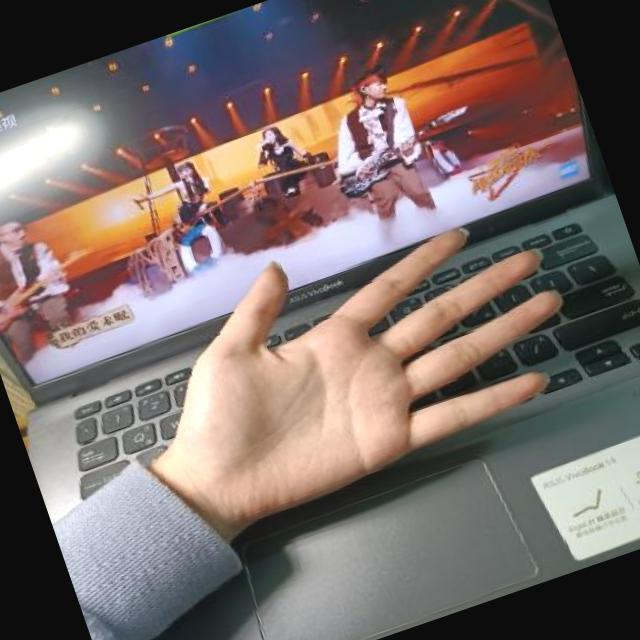Hand: (130, 222, 564, 544)
